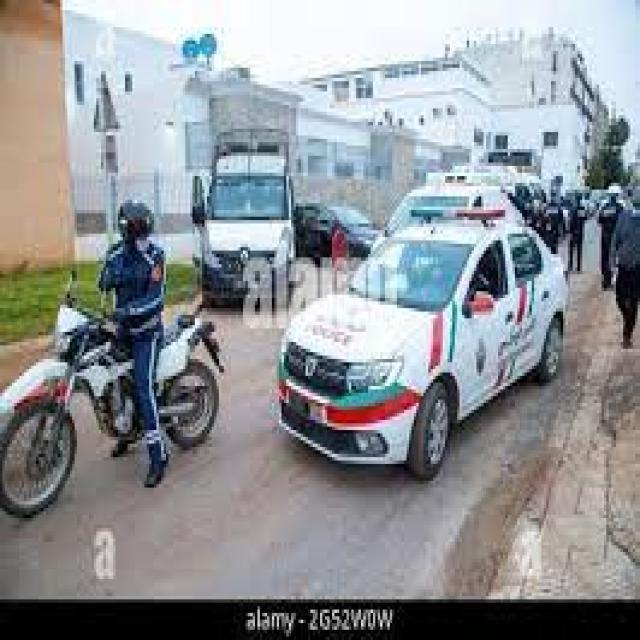police: (277, 210, 564, 486), (199, 129, 304, 293)
